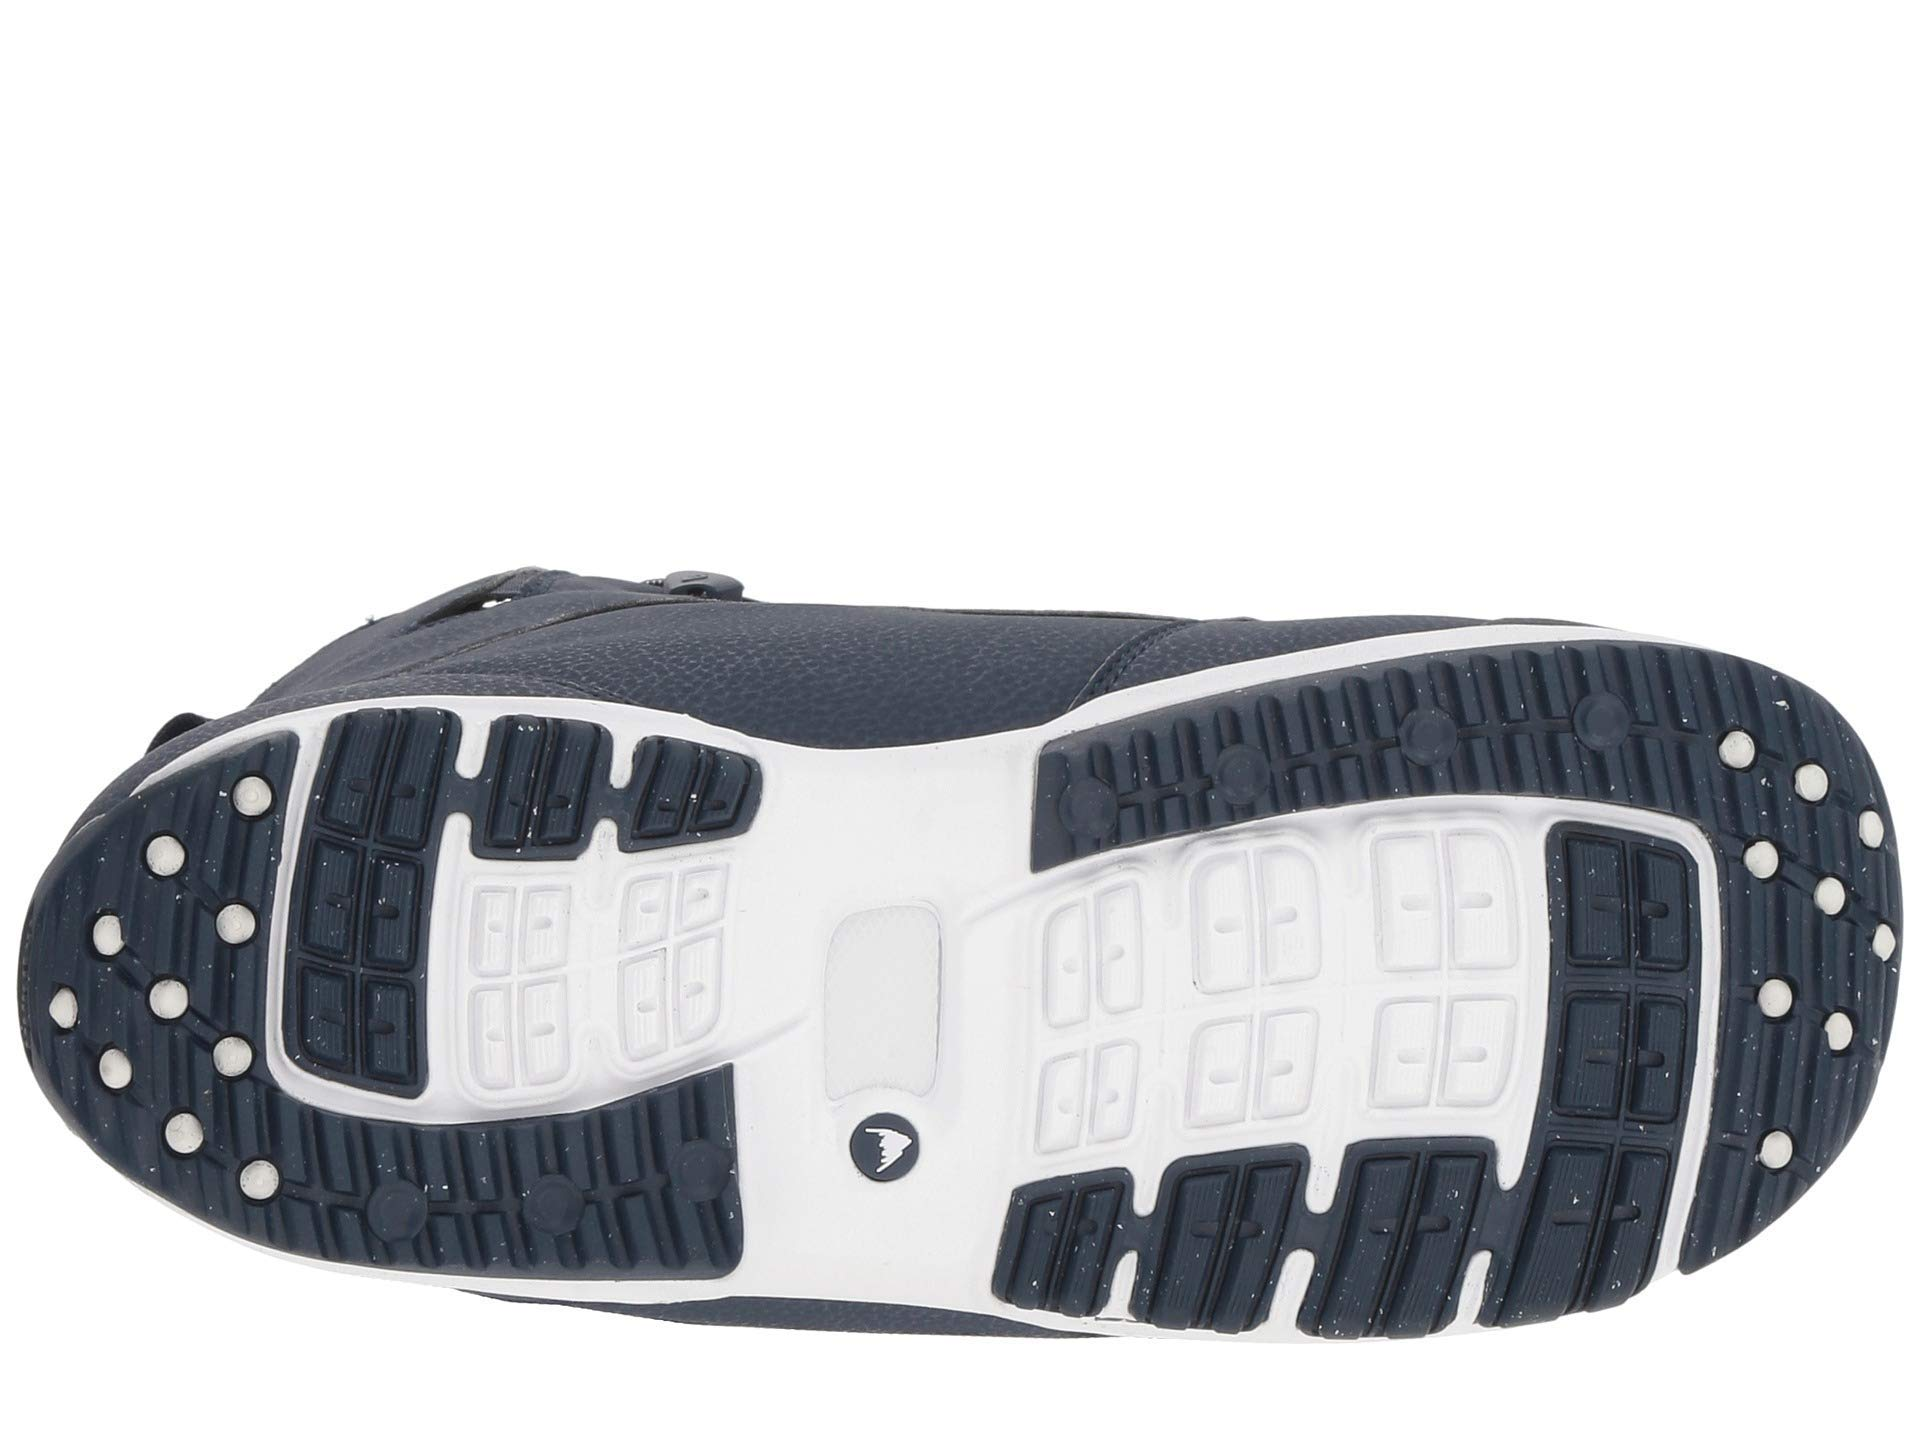circle: (62, 871, 348, 1190), (1681, 709, 1908, 995)
quad: (1008, 850, 1355, 1178), (62, 871, 348, 1190), (1681, 709, 1908, 995)
